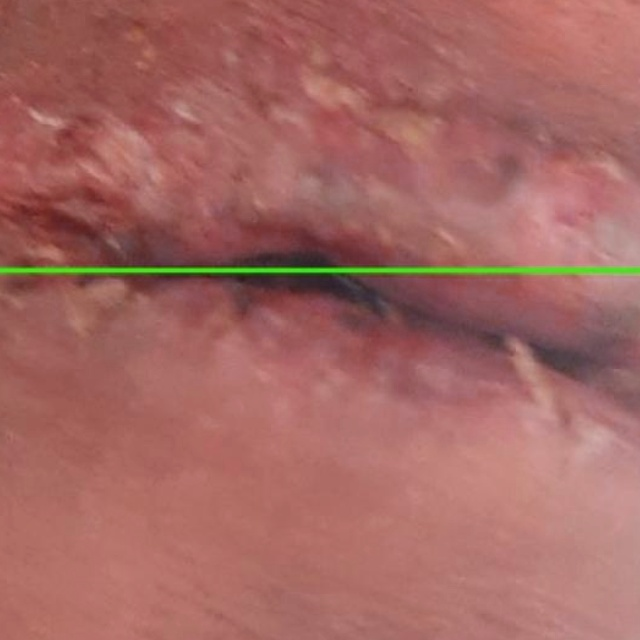Contact Dermatitis: (0, 269, 639, 639)
